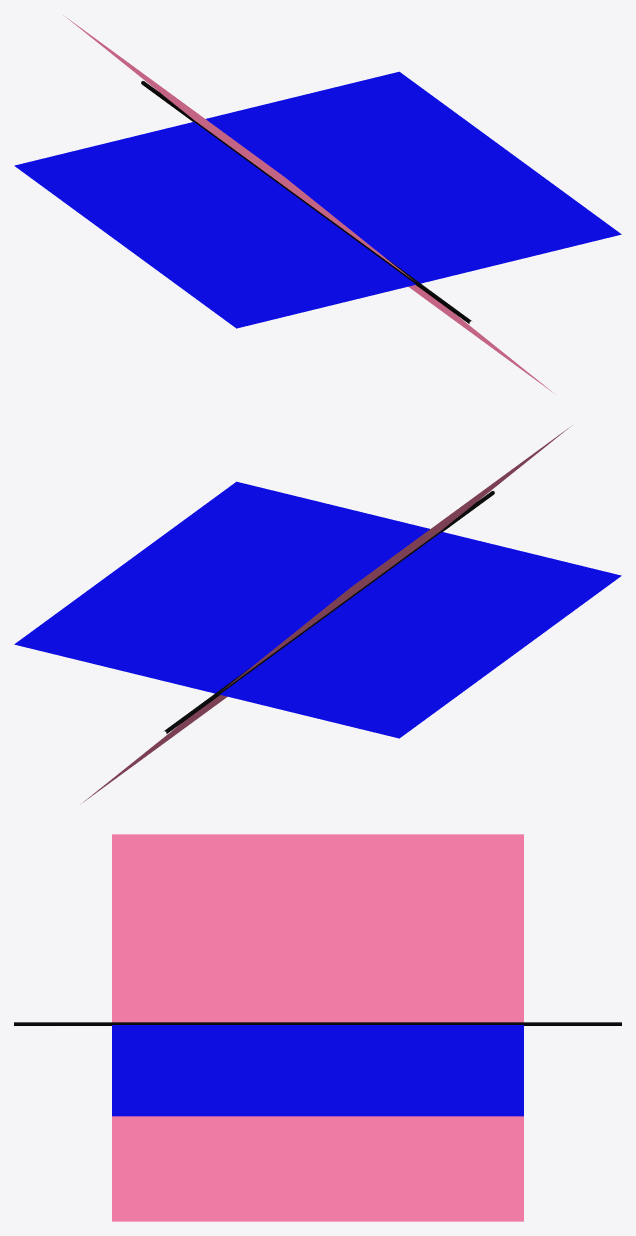
File: IntersectingPlanes.glb
The picture shows the model from 3 angles, top to bottom: view 1: azimuth 30°, elevation 25°; view 2: azimuth 150°, elevation 25°; view 3: azimuth 270°, elevation 25°; orthographic projection. The views are drawn at different scales.
Parts seen in each view (by area): view 1: eq1, f, g; view 2: eq1, f, g; view 3: f_2, eq1, g.
Part boxes in pixels (x1,y1,x2,y2): eq1: (14,71,621,328); f: (63,15,555,394); g: (141,81,471,323); eq1: (14,481,621,738); f: (80,425,572,804); g: (164,491,494,733); f_2: (112,834,523,1221); eq1: (112,1025,523,1116); g: (14,1022,621,1025).
Size of the model in its own units: 0.2734 by 0.1933 by 0.4033.
